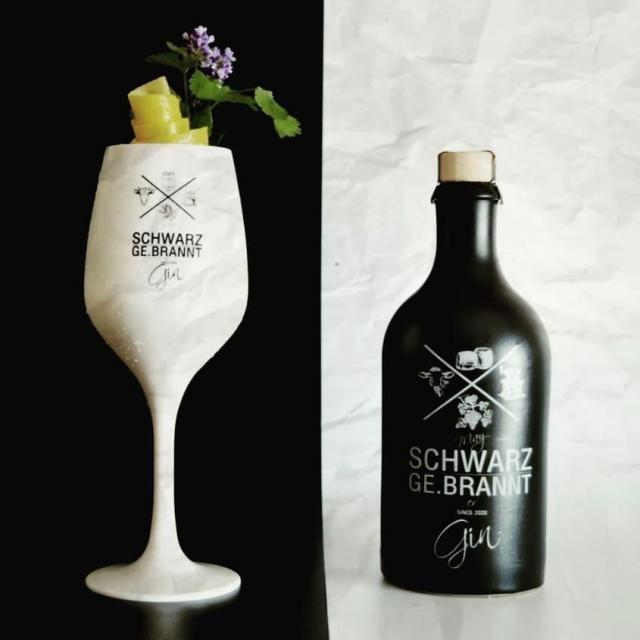bottle-glass: (372, 138, 556, 602)
glass-wine: (81, 137, 260, 613)
